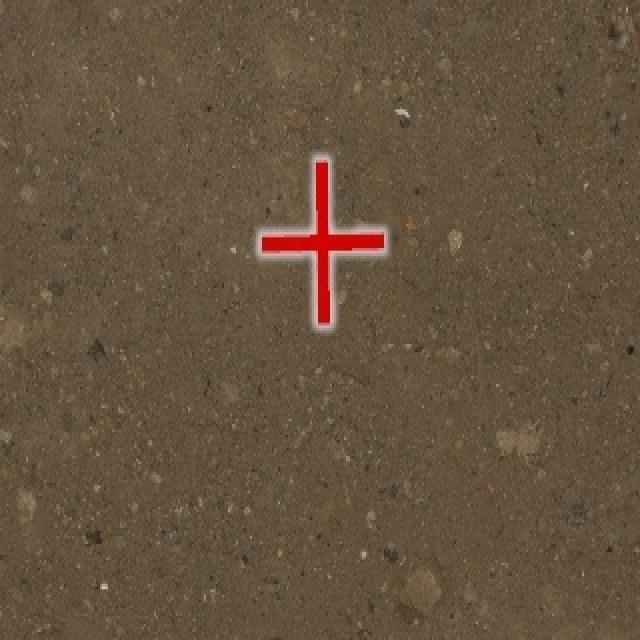x_marker: (259, 159, 383, 324)
